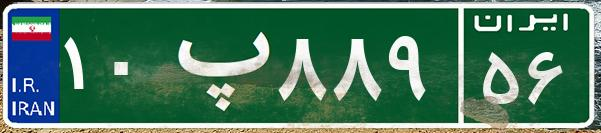0: (110, 28, 158, 105)
1: (57, 26, 110, 107)
5: (475, 38, 525, 113)
6: (525, 38, 570, 115)
8: (273, 28, 330, 110), (330, 28, 385, 110)
9: (385, 28, 445, 110)
پ: (158, 15, 273, 115)
